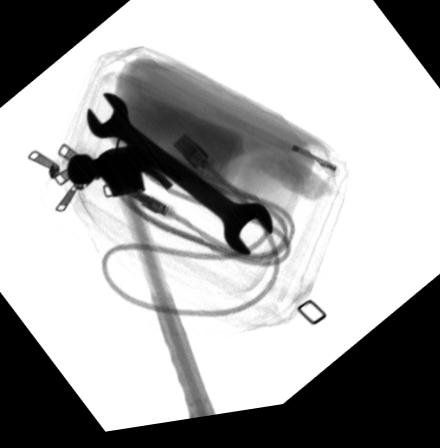Hammer: (65, 147, 215, 425)
Wrench: (86, 95, 271, 266)
